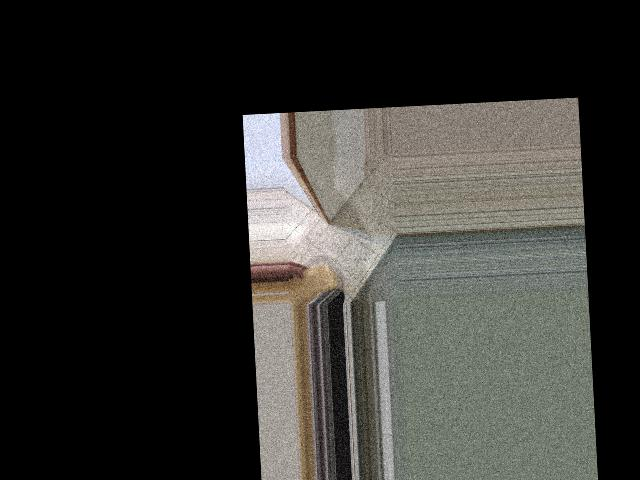cheese: (286, 255, 342, 307)
